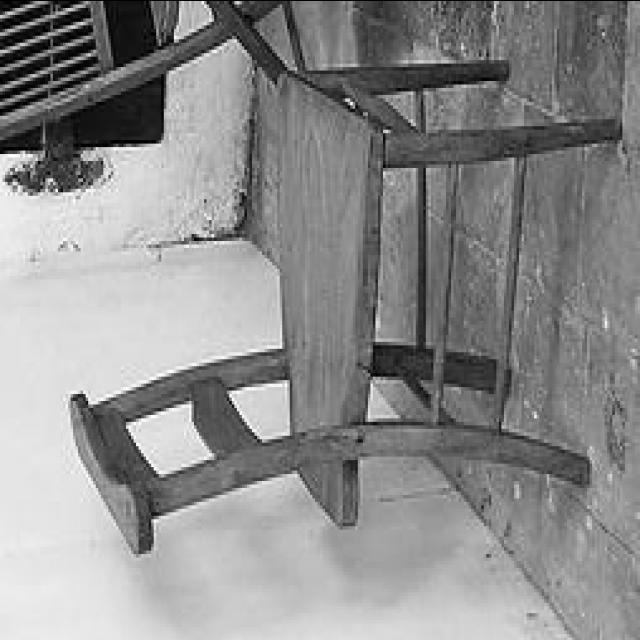chair: (65, 59, 624, 576)
